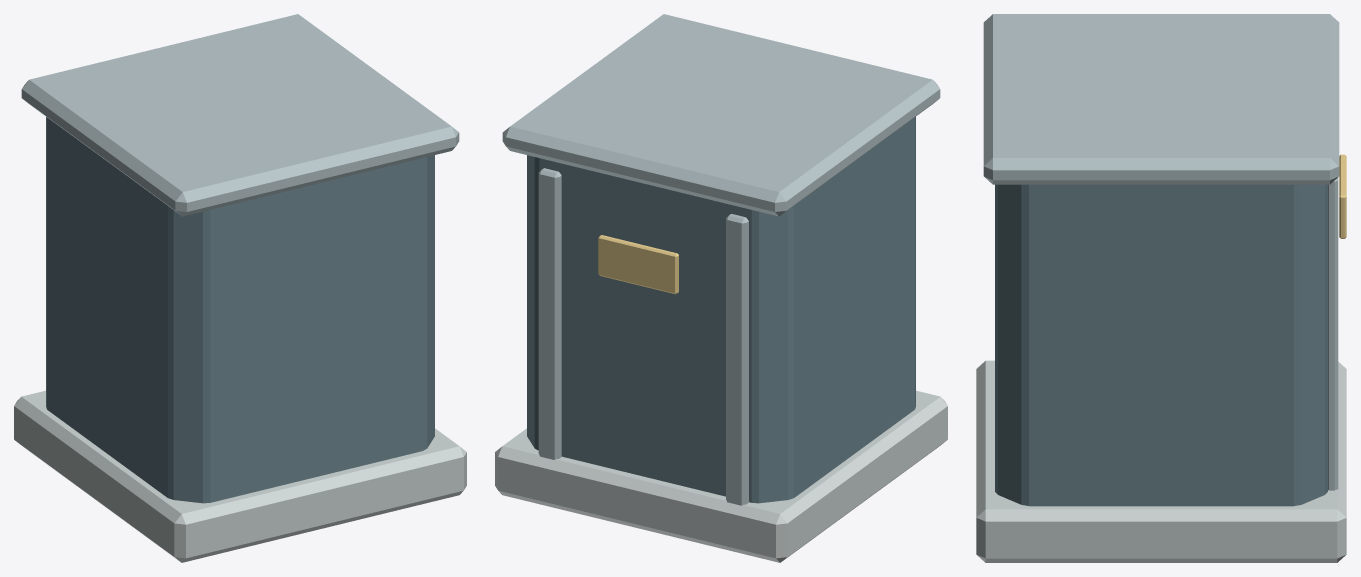
Rendered from wall.glb.
The picture shows the model from 3 angles, left to right: view 1: azimuth 30°, elevation 25°; view 2: azimuth 150°, elevation 25°; view 3: azimuth 270°, elevation 25°; orthographic projection. The views are drawn at different scales.
Parts seen in each view (by area): view 1: wall, asset_wall__FP_Steel, foot; view 2: wall, asset_wall__FP_Steel, foot, caution; view 3: wall, asset_wall__FP_Steel, foot, caution.
Boxes of the visible parts, x1,y1,x2,y2 form: wall: (46,117,434,503); asset_wall__FP_Steel: (21,14,459,216); foot: (14,390,466,562); wall: (527,117,915,503); asset_wall__FP_Steel: (502,14,940,505); foot: (495,390,947,562); caution: (598,235,678,294); wall: (995,184,1327,506); asset_wall__FP_Steel: (983,14,1339,490); foot: (976,360,1346,562); caution: (1339,154,1346,238).
Size of the model in its own units: 1 by 1.2 by 1.
